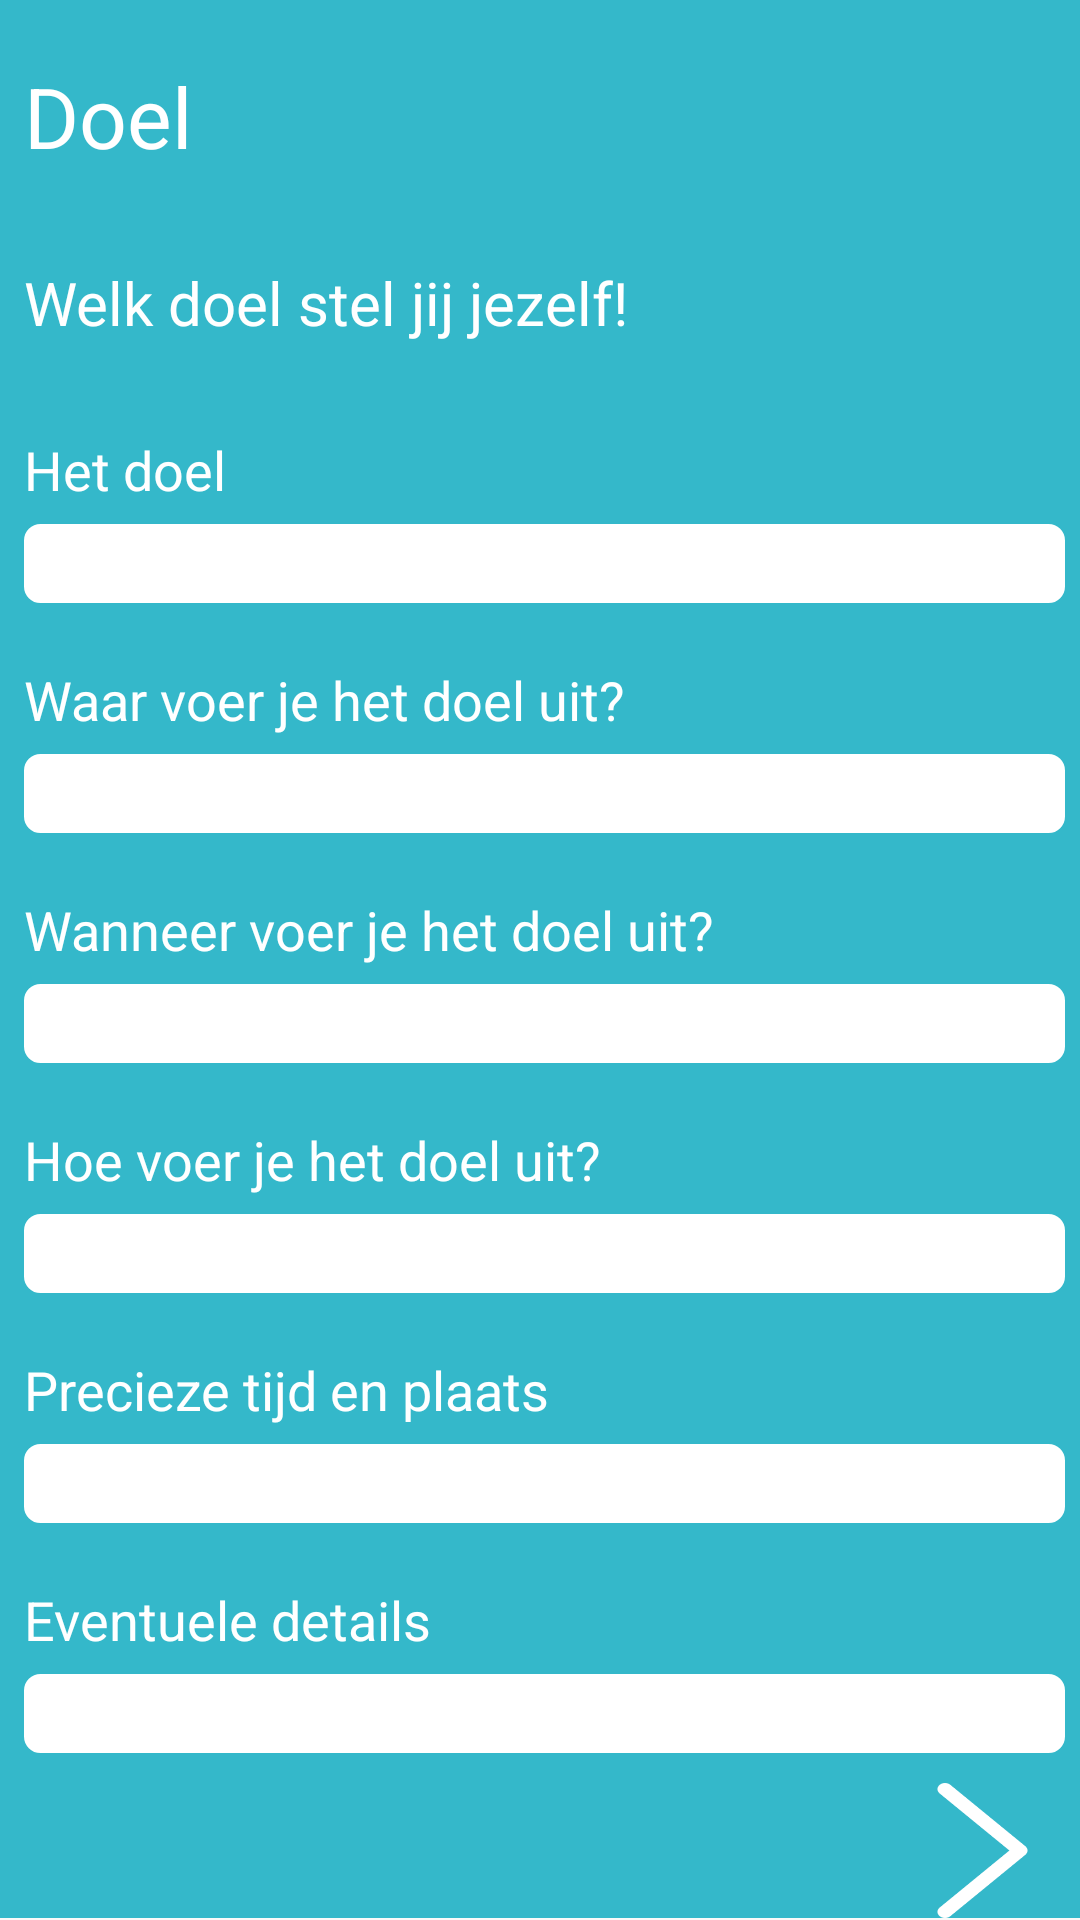

Named icons in this screenshot (1080 x 1920) and their bounding boxes, BBox(x1, y1, x2, y2):
next: BBox(937, 1783, 1028, 1918)
